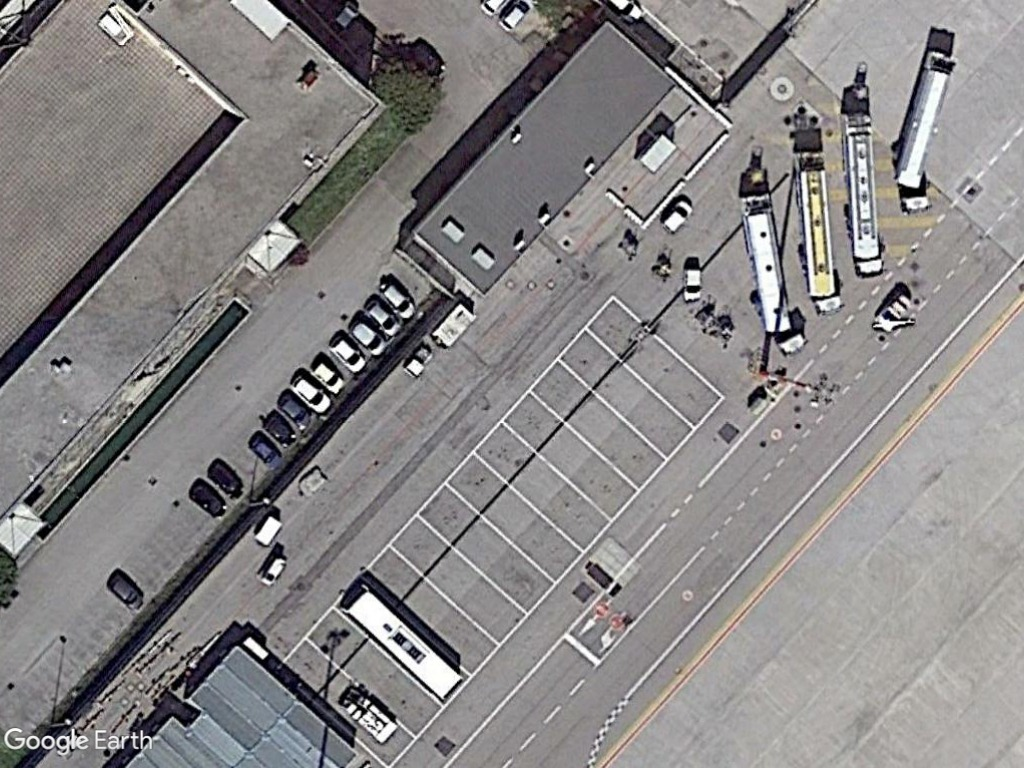bus: (336, 576, 463, 704)
car: (373, 276, 421, 320), (288, 373, 335, 416), (346, 314, 389, 359), (327, 331, 370, 376), (362, 295, 405, 339), (105, 570, 147, 614), (312, 360, 348, 398), (498, 0, 535, 36), (258, 551, 289, 591)
longvehicle: (887, 48, 962, 192), (794, 147, 846, 314), (840, 103, 888, 280), (740, 187, 794, 336)
van: (659, 197, 696, 233), (680, 264, 705, 308)
